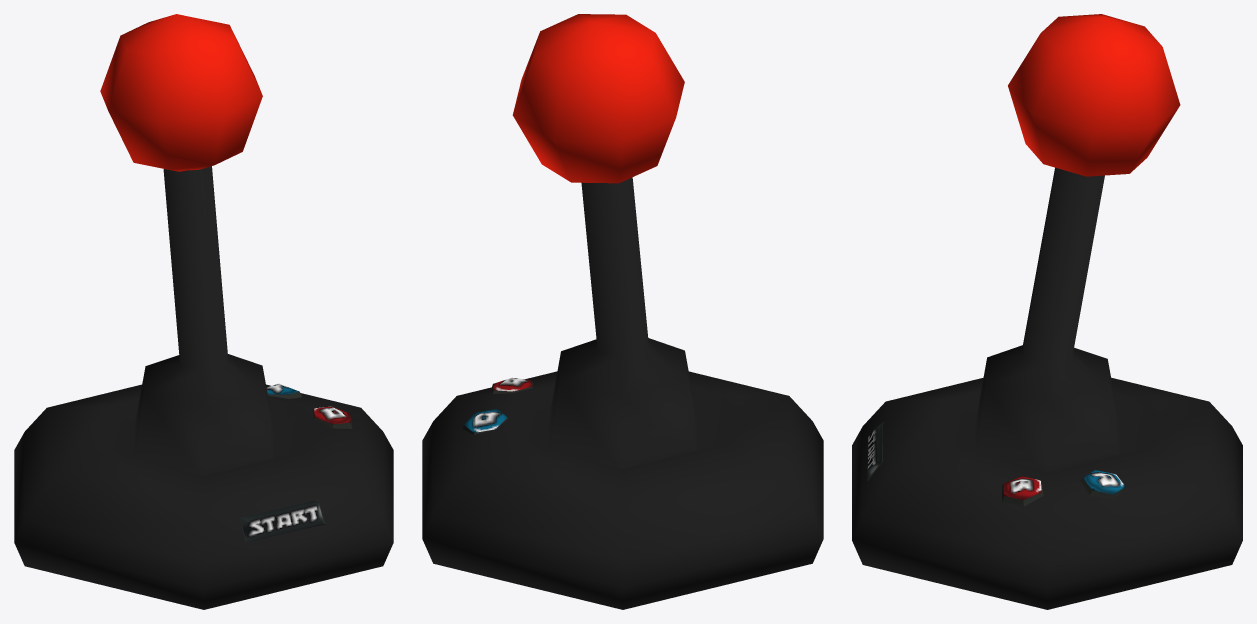
Rendered from Joystick.FBX.
The picture shows the model from 3 angles, left to right: view 1: azimuth 30°, elevation 25°; view 2: azimuth 150°, elevation 25°; view 3: azimuth 270°, elevation 25°; orthographic projection. The views are drawn at different scales.
Parts seen in each view (by area): view 1: Joystick; view 2: Joystick; view 3: Joystick.
Part boxes in pixels (x1,y1,x2,y2): Joystick: (14,14,393,609); Joystick: (422,14,823,609); Joystick: (852,14,1242,609).
Bounding box in the file's own units: 19.78 × 24.31 × 17.13.
